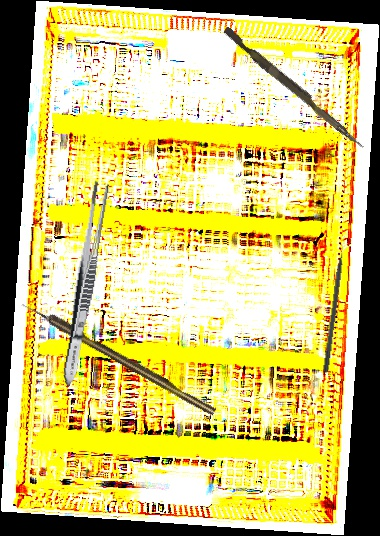Dressing Forceps: (58, 179, 112, 388)
Hook Surgical: (20, 297, 217, 418)
Pusher: (220, 26, 369, 150), (322, 235, 349, 374)
